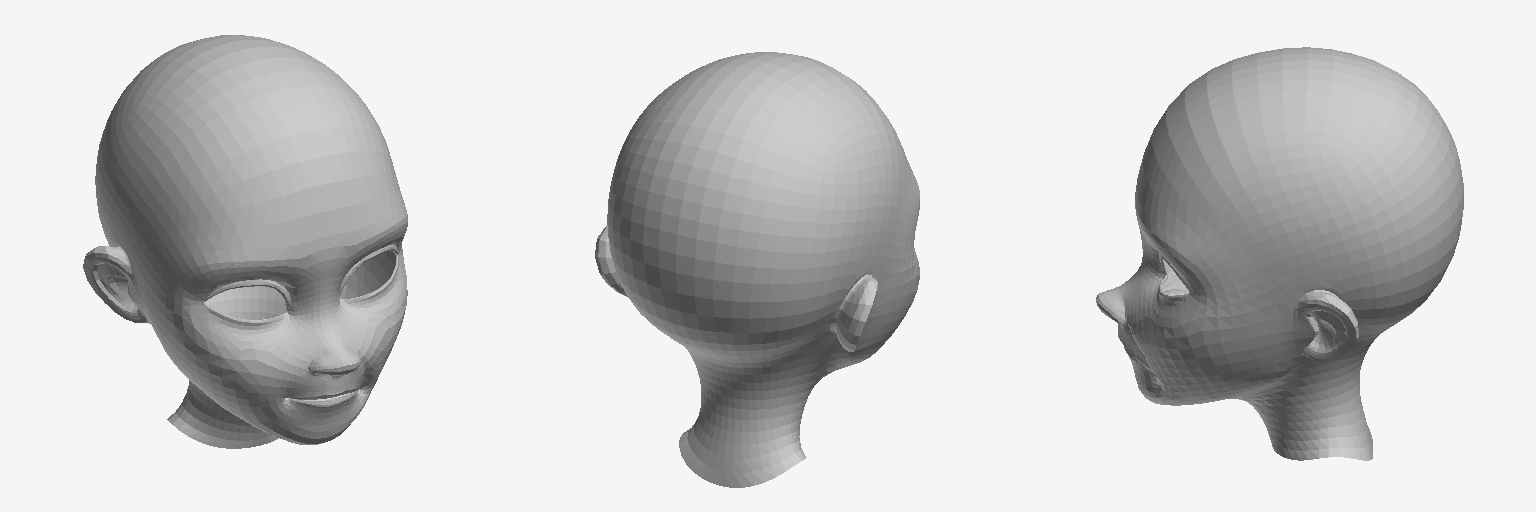
Rendered from Mery_l_sad.obj.
The picture shows the model from 3 angles: view 1: azimuth 30°, elevation 25°; view 2: azimuth 150°, elevation 25°; view 3: azimuth 270°, elevation 25°; orthographic projection.
Bounding box in the file's own units: 23.75 × 32.31 × 27.53.